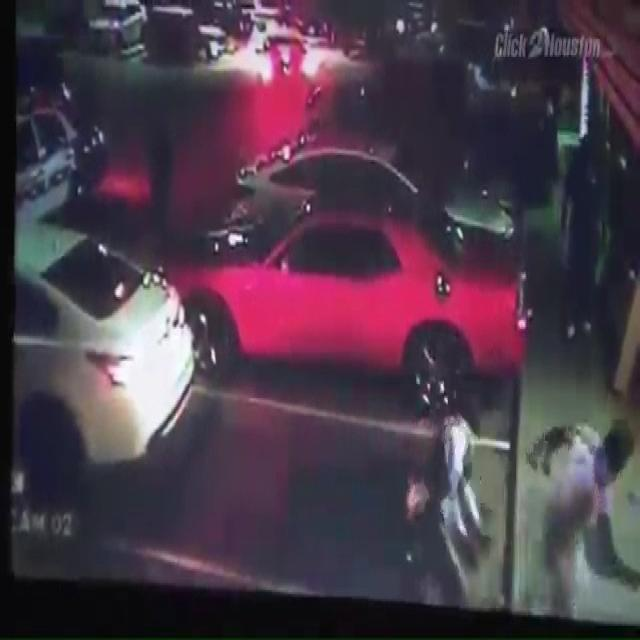fight: (400, 361, 640, 633)
